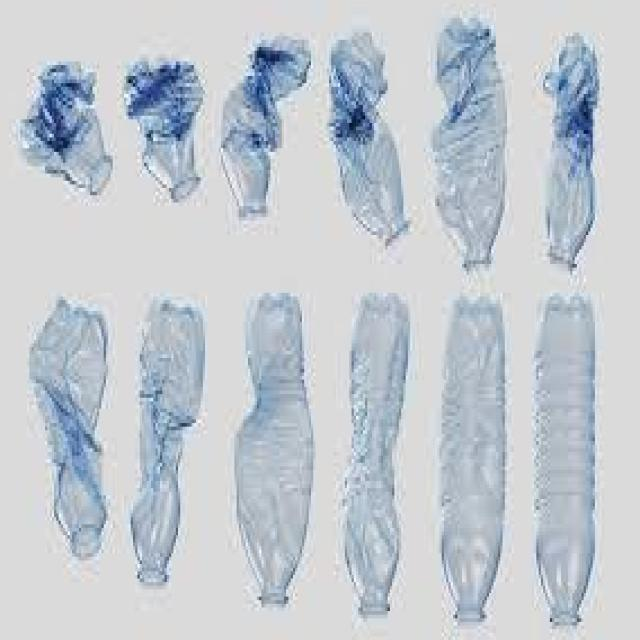defected: (230, 285, 316, 617), (125, 282, 213, 599), (336, 282, 416, 624), (28, 280, 118, 580), (436, 288, 511, 634), (422, 7, 516, 277), (324, 30, 416, 259), (216, 28, 312, 242), (536, 35, 606, 274), (23, 51, 117, 216), (127, 50, 217, 220)
good: (525, 292, 604, 632)
